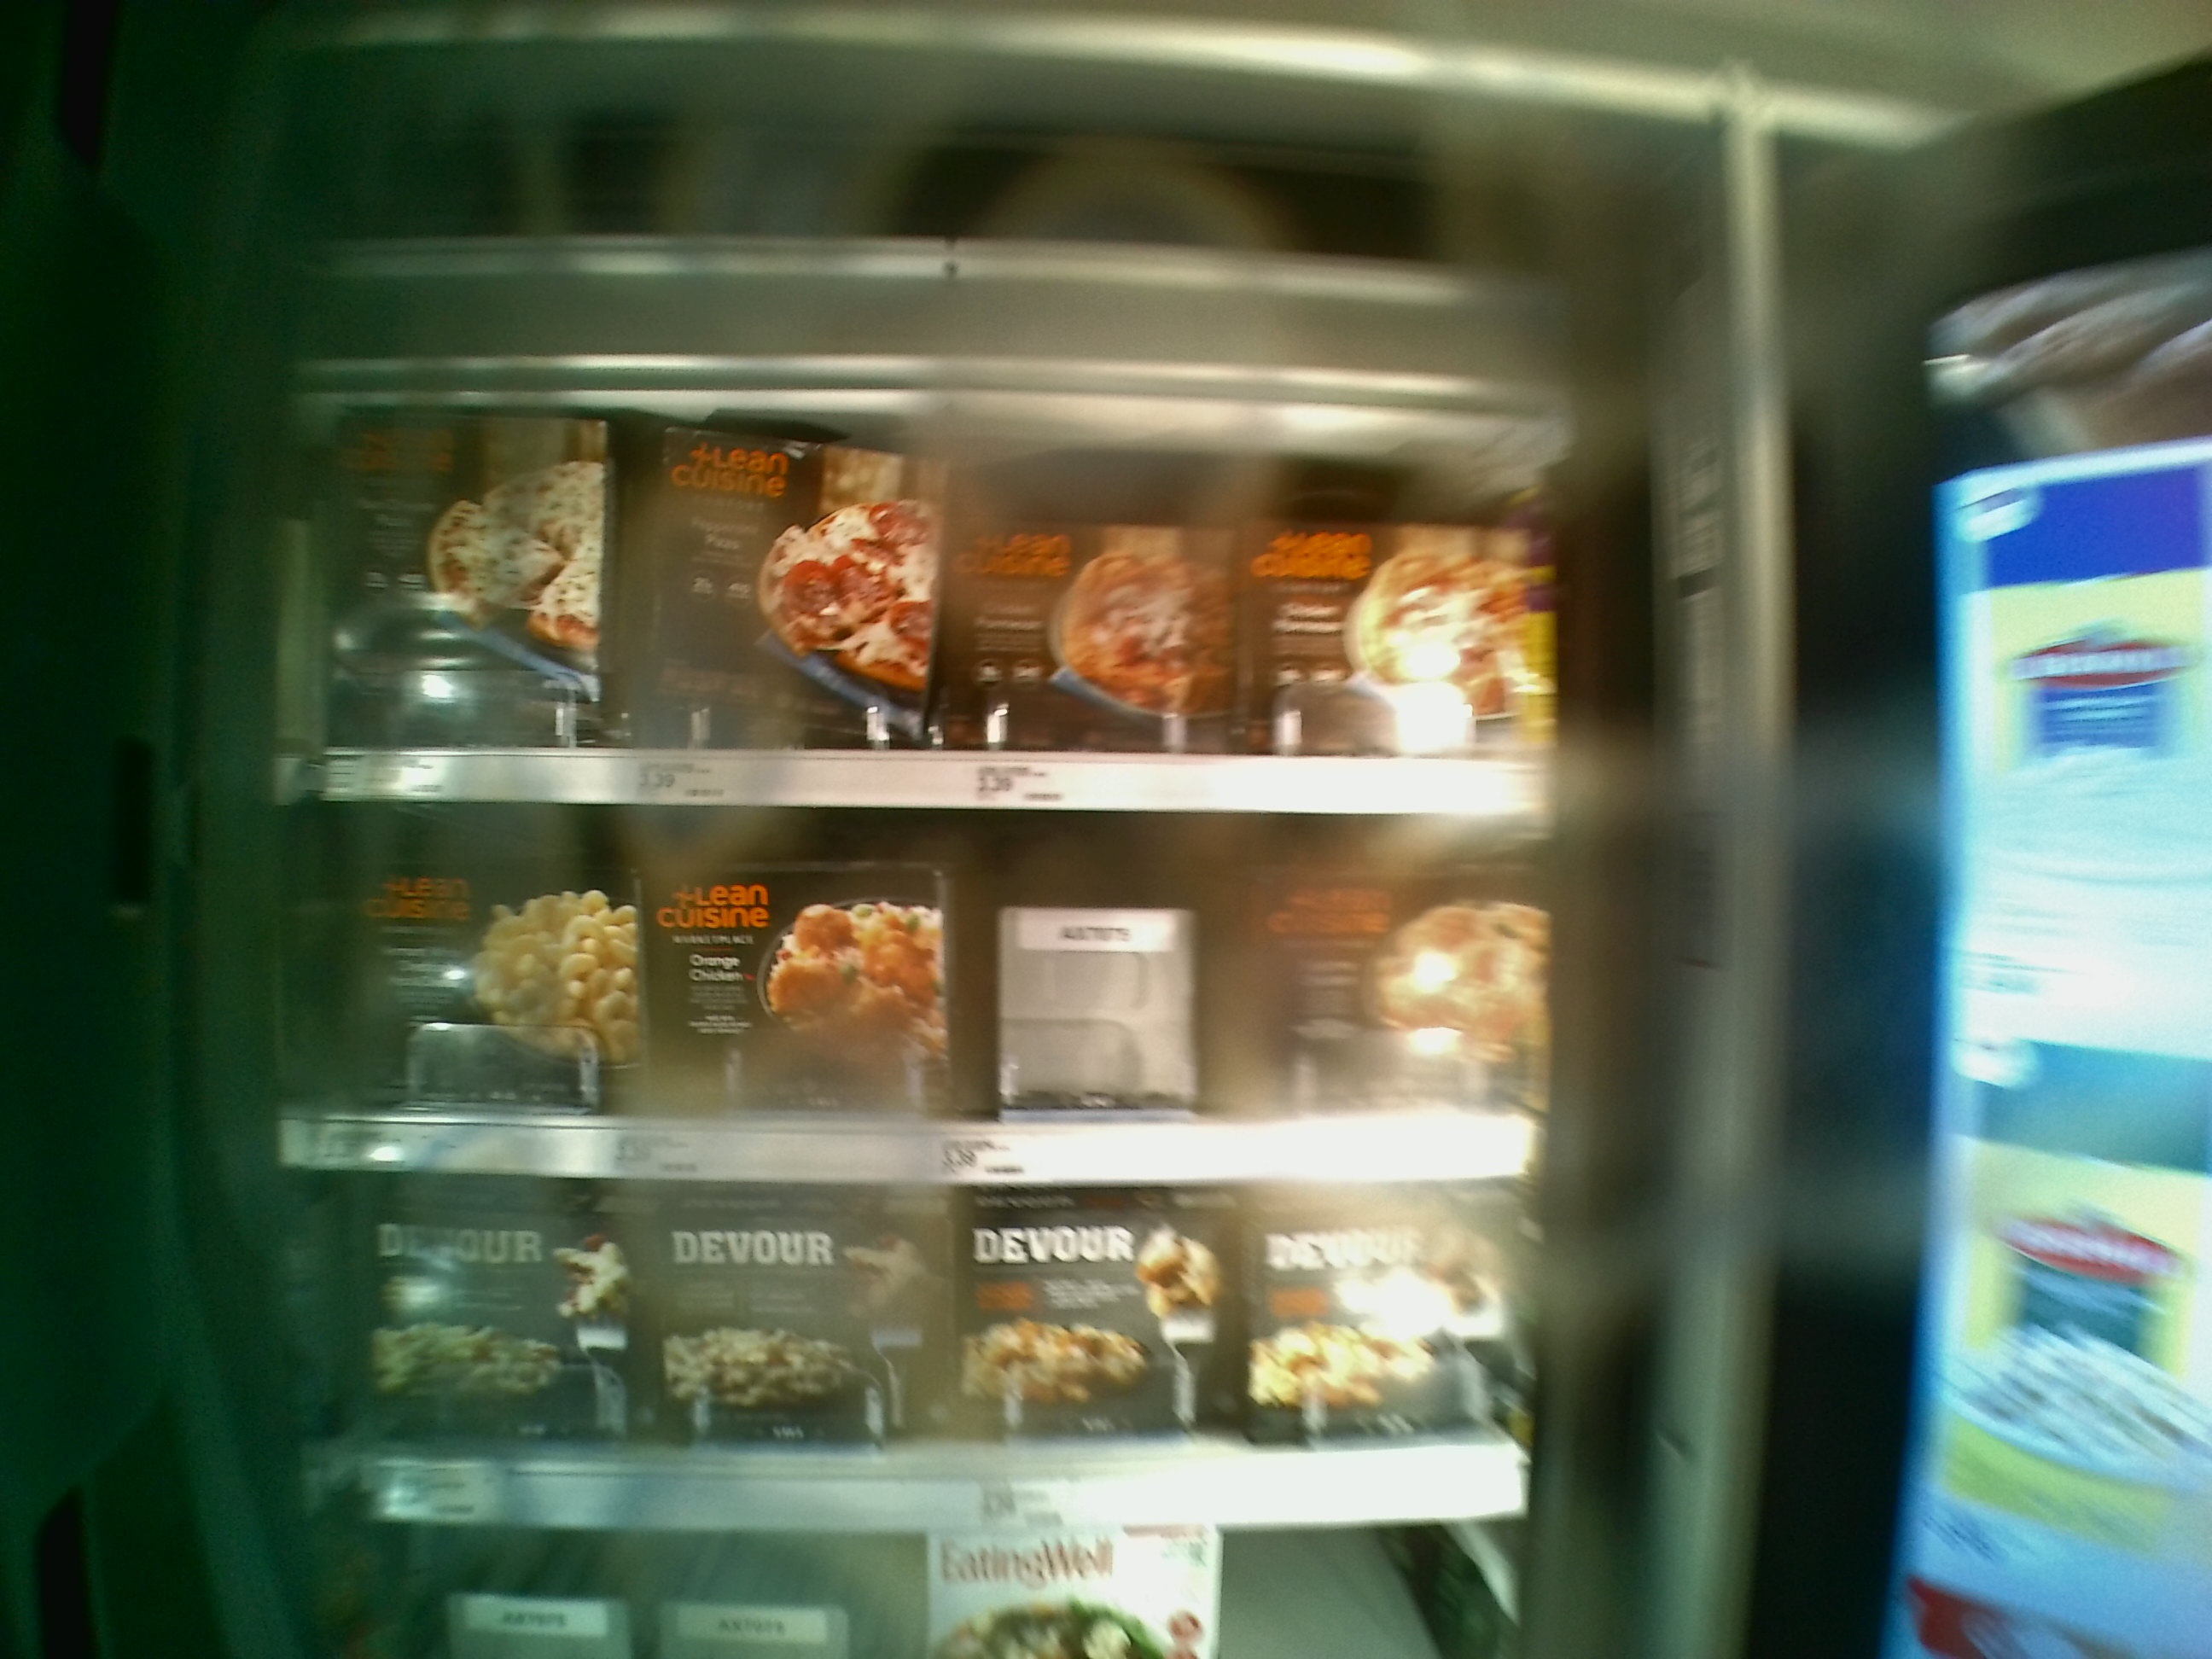Shelf: (289, 369, 1541, 817), (275, 802, 1545, 1190), (294, 1166, 1545, 1539)
